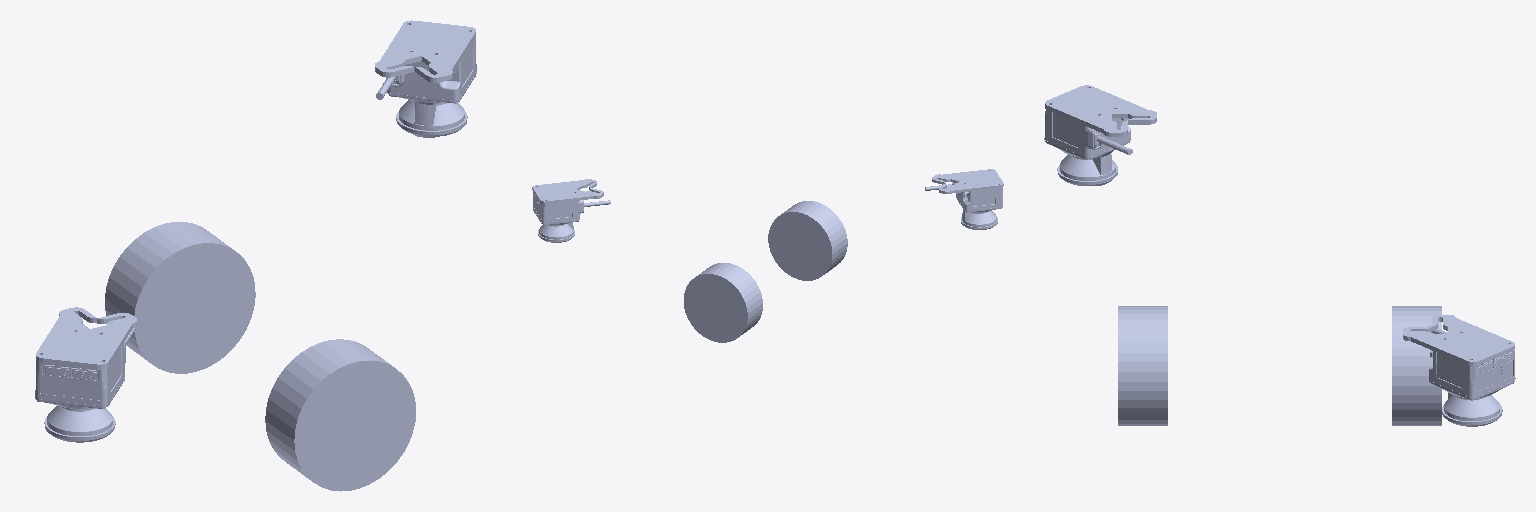
robot.urdf — carver_pharmacy:
<?xml version="1.0" encoding="utf-8"?>
<!-- This URDF was automatically created by SolidWorks to URDF Exporter! Originally created by [author] ([email redacted]) 
     Commit Version: 1.6.0-1-g15f4949  Build Version: 1.6.7594.29634
     For more information, please see http://wiki.ros.org/sw_urdf_exporter -->
<robot
  name="carver_pharmacy">
  <link
    name="base_link">
    <inertial>
      <origin
        xyz="-0.0510669470849319 0.00131732312127419 0.28406765218654"
        rpy="0 0 0" />
      <mass
        value="57.6197764143966" />
      <inertia
        ixx="0.209952375373657"
        ixy="-0.000175290849388169"
        ixz="-0.00216513956519068"
        iyy="0.494415971166935"
        iyz="-9.20985411712085E-05"
        izz="0.451886984234278" />
    </inertial>
    <visual>
      <origin
        xyz="0 0 0"
        rpy="0 0 0" />
      <geometry>
        <mesh
          filename="package://carver_pharmacy_description/meshes/base_link.STL" />
      </geometry>
      <material
        name="">
        <color
          rgba="0.898039215686275 0.917647058823529 0.929411764705882 1" />
      </material>
    </visual>
    <collision>
      <origin
        xyz="0 0 0"
        rpy="0 0 0" />
      <geometry>
        <mesh
          filename="package://carver_pharmacy_description/meshes/base_link.STL" />
      </geometry>
    </collision>
  </link>
  <link
    name="right_drive_wheel_link">
    <inertial>
      <origin
        xyz="5.55111512312578E-17 -2.88657986402541E-15 -1.23503637872169E-14"
        rpy="0 0 0" />
      <mass
        value="1.09563043793944" />
      <inertia
        ixx="0.00189169725363894"
        ixy="7.76790423997522E-19"
        ixz="-8.49729634435965E-20"
        iyy="0.00308146060670468"
        iyz="-1.24287129790834E-18"
        izz="0.00189169725363894" />
    </inertial>
    <visual>
      <origin
        xyz="0 0 0"
        rpy="0 0 0" />
      <geometry>
        <mesh
          filename="package://carver_pharmacy_description/meshes/right_drive_wheel_link.STL" />
      </geometry>
      <material
        name="">
        <color
          rgba="0.792156862745098 0.819607843137255 0.933333333333333 1" />
      </material>
    </visual>
    <collision>
      <origin
        xyz="0 0 0"
        rpy="0 0 0" />
      <geometry>
        <mesh
          filename="package://carver_pharmacy_description/meshes/right_drive_wheel_link.STL" />
      </geometry>
    </collision>
  </link>
  <joint
    name="right_drive_wheel_joint"
    type="continuous">
    <origin
      xyz="0 -0.171 0"
      rpy="0 0 0" />
    <parent
      link="base_link" />
    <child
      link="right_drive_wheel_link" />
    <axis
      xyz="0 1 0" />
  </joint>
  <link
    name="left_drive_wheel_link">
    <inertial>
      <origin
        xyz="-2.4980018054066E-16 2.44249065417534E-15 -1.29206541299443E-14"
        rpy="0 0 0" />
      <mass
        value="1.09563043793944" />
      <inertia
        ixx="0.00189169725363894"
        ixy="4.8060847950556E-20"
        ixz="2.24832179721211E-19"
        iyy="0.00308146060670467"
        iyz="4.1436938209988E-21"
        izz="0.00189169725363894" />
    </inertial>
    <visual>
      <origin
        xyz="0 0 0"
        rpy="0 0 0" />
      <geometry>
        <mesh
          filename="package://carver_pharmacy_description/meshes/left_drive_wheel_link.STL" />
      </geometry>
      <material
        name="">
        <color
          rgba="0.792156862745098 0.819607843137255 0.933333333333333 1" />
      </material>
    </visual>
    <collision>
      <origin
        xyz="0 0 0"
        rpy="0 0 0" />
      <geometry>
        <mesh
          filename="package://carver_pharmacy_description/meshes/left_drive_wheel_link.STL" />
      </geometry>
    </collision>
  </link>
  <joint
    name="left_drive_wheel_joint"
    type="continuous">
    <origin
      xyz="0 0.171 0"
      rpy="0 0 0" />
    <parent
      link="base_link" />
    <child
      link="left_drive_wheel_link" />
    <axis
      xyz="0 -1 0" />
  </joint>
  <link
    name="front_lidar_link">
    <inertial>
      <origin
        xyz="-0.00306773799727345 -6.73331979811342E-05 -0.0346525847984595"
        rpy="0 0 0" />
      <mass
        value="0.517592796037573" />
      <inertia
        ixx="0.000273374727119128"
        ixy="-7.81779478438876E-06"
        ixz="-1.42697826267645E-06"
        iyy="0.000316640161805957"
        iyz="-4.54726296629849E-06"
        izz="0.000487947982082821" />
    </inertial>
    <visual>
      <origin
        xyz="0 0 0"
        rpy="0 0 0" />
      <geometry>
        <mesh
          filename="package://carver_pharmacy_description/meshes/front_lidar_link.STL" />
      </geometry>
      <material
        name="">
        <color
          rgba="0.792156862745098 0.819607843137255 0.933333333333333 1" />
      </material>
    </visual>
    <collision>
      <origin
        xyz="0 0 0"
        rpy="0 0 0" />
      <geometry>
        <mesh
          filename="package://carver_pharmacy_description/meshes/front_lidar_link.STL" />
      </geometry>
    </collision>
  </link>
  <joint
    name="front_lidar_joint"
    type="fixed">
    <origin
      xyz="0.3493 0.2398 0.117"
      rpy="3.1241 0 0.7854" />
    <parent
      link="base_link" />
    <child
      link="front_lidar_link" />
    <axis
      xyz="0 0 0" />
  </joint>
  <link
    name="back_lidar_link">
    <inertial>
      <origin
        xyz="-0.00306773831985518 -0.000673703170952777 -0.0346461316086151"
        rpy="0 0 0" />
      <mass
        value="0.517592801246909" />
      <inertia
        ixx="0.000273374730896287"
        ixy="-7.87857589709287E-06"
        ixz="-1.29032161891845E-06"
        iyy="0.000316533645014142"
        iyz="-1.5552155939568E-06"
        izz="0.0004880545058498" />
    </inertial>
    <visual>
      <origin
        xyz="0 0 0"
        rpy="0 0 0" />
      <geometry>
        <mesh
          filename="package://carver_pharmacy_description/meshes/back_lidar_link.STL" />
      </geometry>
      <material
        name="">
        <color
          rgba="0.792156862745098 0.819607843137255 0.933333333333333 1" />
      </material>
    </visual>
    <collision>
      <origin
        xyz="0 0 0"
        rpy="0 0 0" />
      <geometry>
        <mesh
          filename="package://carver_pharmacy_description/meshes/back_lidar_link.STL" />
      </geometry>
    </collision>
  </link>
  <joint
    name="back_lidar_joint"
    type="fixed">
    <origin
      xyz="-0.3603 -0.2398 0.117"
      rpy="-3.1416 0 -2.3562" />
    <parent
      link="base_link" />
    <child
      link="back_lidar_link" />
    <axis
      xyz="0 0 0" />
  </joint>
</robot>

--- Render facts (derived) ---
Views: 3 orthographic renders of the robot side by side, from view 1: azimuth 30°, elevation 25°; view 2: azimuth 150°, elevation 25°; view 3: azimuth 270°, elevation 25°.
Model carver_pharmacy with 5 links and 4 joints (2 continuous, 2 fixed), rooted at base_link, posed all joints at 0.
Links seen in each view (by area): view 1: right_drive_wheel_link, left_drive_wheel_link, back_lidar_link, front_lidar_link; view 2: left_drive_wheel_link, right_drive_wheel_link, front_lidar_link, back_lidar_link; view 3: front_lidar_link, back_lidar_link, right_drive_wheel_link, left_drive_wheel_link.
Boxes of the visible links, x1,y1,x2,y2 form: right_drive_wheel_link: [265, 339, 415, 491]; left_drive_wheel_link: [105, 222, 255, 373]; back_lidar_link: [35, 307, 136, 442]; front_lidar_link: [375, 20, 476, 137]; left_drive_wheel_link: [684, 263, 762, 342]; right_drive_wheel_link: [768, 201, 847, 280]; front_lidar_link: [532, 179, 610, 242]; back_lidar_link: [925, 169, 1003, 229]; front_lidar_link: [1403, 315, 1515, 426]; back_lidar_link: [1044, 85, 1156, 185]; right_drive_wheel_link: [1118, 306, 1167, 425]; left_drive_wheel_link: [1392, 306, 1441, 425].
Size in the robot's own frame: 0.8178 by 0.5878 by 0.269 metres.
4 mesh visuals loaded from 5 distinct referenced files (4 binary STL); not drawn: 1 (reference not matched to a file when rendering).